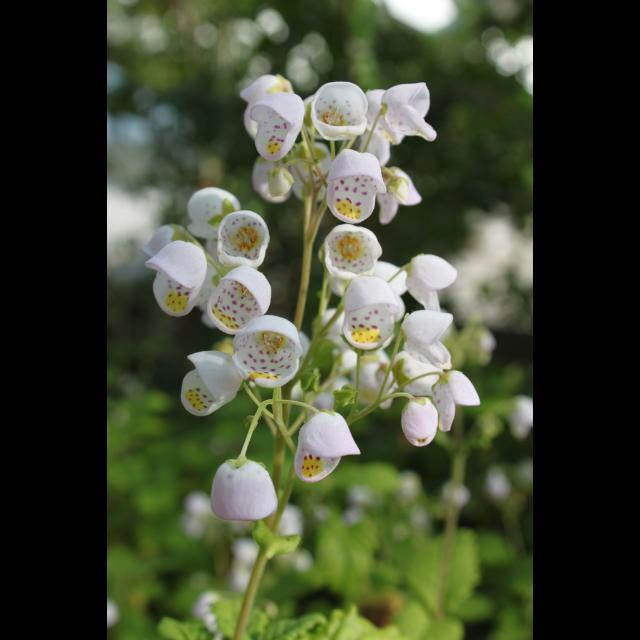Flower: (148, 72, 478, 520), (292, 408, 358, 488)
